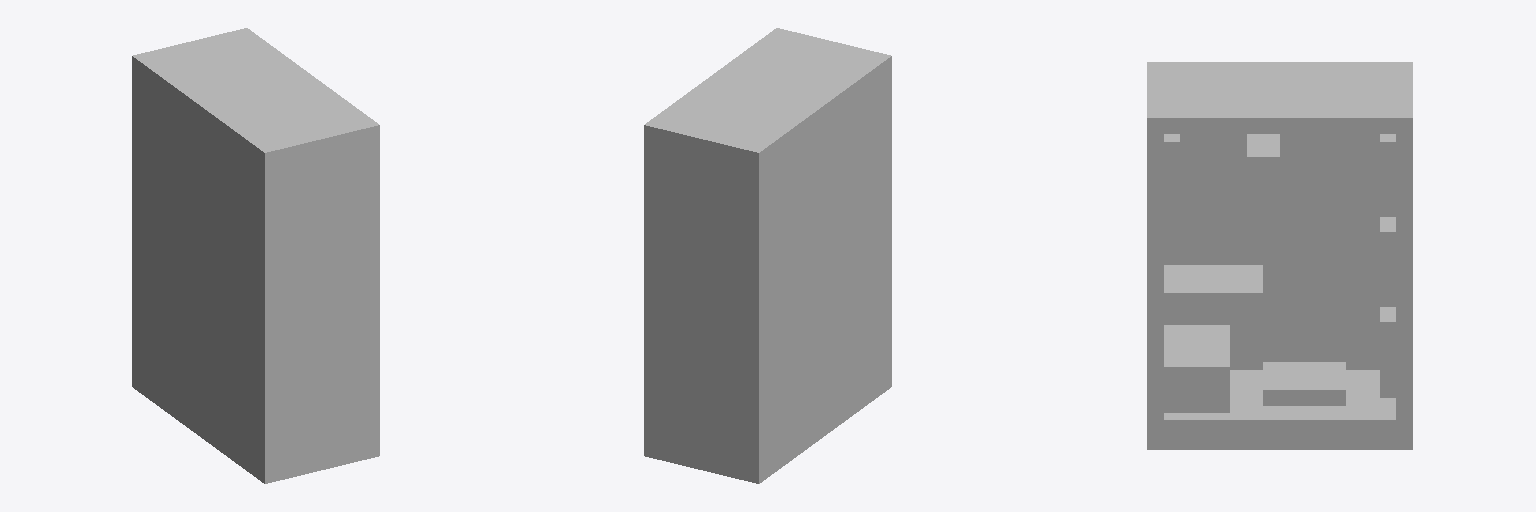
Rendered from gaming_pc.obj.
The picture shows the model from 3 angles: view 1: azimuth 30°, elevation 25°; view 2: azimuth 150°, elevation 25°; view 3: azimuth 270°, elevation 25°; orthographic projection.
Parts seen in each view (by area): view 1: cube; view 2: cube; view 3: cube.
Part boxes in pixels (left/top/right/bottom): cube: left=132, top=28, right=379, bottom=483; cube: left=644, top=28, right=891, bottom=483; cube: left=1147, top=62, right=1412, bottom=449.
Size of the model in its own units: 0.5 by 1.38 by 1.